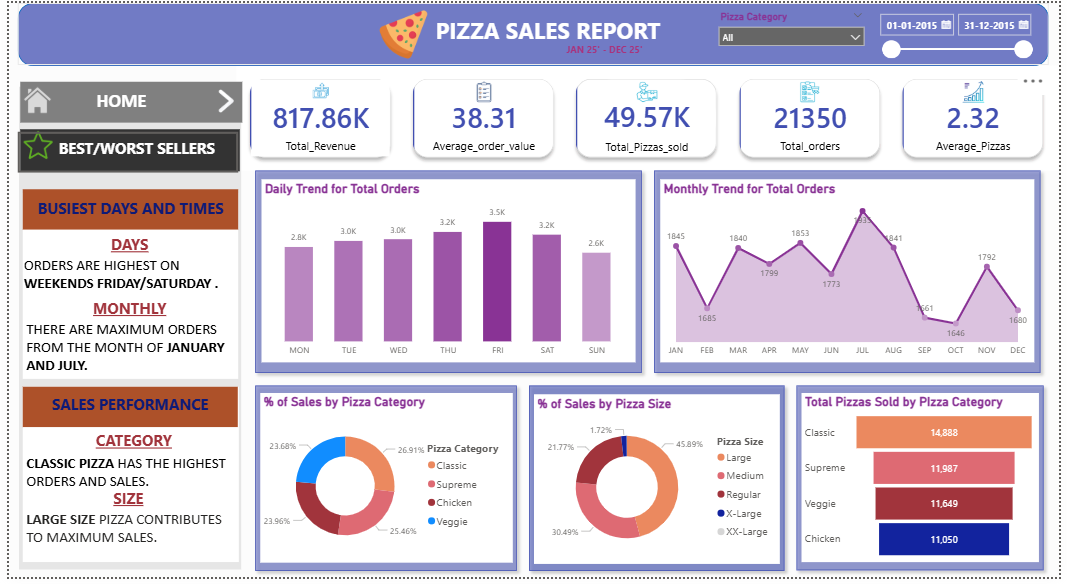

The dashboard page shown, as its layout file describes it:
{"tool":"powerbi","page":{"name":"page1","canvas":[1500,820],"ordinal":0},"visuals":[{"type":"cardVisual","fields":{"Data":["pizza_sales$.Total_Revenue","pizza_sales$.Average_order_value","pizza_sales$.Total_Pizzas_sold","pizza_sales$.Total_orders","pizza_sales$.Average_Pizzas_Per_order"]},"box":[324.3,90,1175.7,150],"z":0},{"type":"shape","box":[12.7,0,1473.2,90.1],"z":1000},{"type":"textbox","box":[14.5,0,1472.5,82.6],"z":2000},{"type":"image","box":[515,8.3,98.3,71.7],"z":3000},{"type":"shape","box":[342.9,230,570,307.1],"z":4000},{"type":"shape","box":[912.9,230,570,307.1],"z":5000},{"type":"columnChart","title":"Daily Trend for Total Orders","fields":{"Y":["pizza_sales$.Total_orders"],"Category":["pizza_sales$.New_day"]},"box":[360,251.4,534.3,261.4],"z":6000},{"type":"areaChart","title":"Monthly Trend for Total Orders","fields":{"Category":["pizza_sales$.ShortMonthName"],"Y":["pizza_sales$.Total_orders"]},"box":[930,251.4,534,261.4],"z":7000},{"type":"shape","box":[342.9,537.1,391.4,282.9],"z":8000},{"type":"shape","box":[734.3,537.1,382.9,282.9],"z":9000},{"type":"shape","box":[1116.7,537.5,370.8,281.9],"z":10000},{"type":"donutChart","title":"% of Sales by Pizza Category","fields":{"Category":["pizza_sales$.pizza_category"],"Y":["Sum(pizza_sales$.total_price)"]},"box":[358.9,556.7,361.1,242.2],"z":11000},{"type":"donutChart","title":"% of Sales by Pizza Size","fields":{"Category":["pizza_sales$.pizza_size"],"Y":["Sum(pizza_sales$.total_price)"]},"box":[750,558.9,351.1,242],"z":12000},{"type":"funnel","title":"Total Pizzas Sold by PIzza Category","fields":{"Category":["pizza_sales$.pizza_category"],"Y":["Sum(pizza_sales$.quantity)"]},"box":[1131.9,556.9,339,241.7],"z":13000},{"type":"textbox","box":[791.7,51.7,121.7,28.3],"z":14000},{"type":"shape","box":[14.5,120.3,317.4,689.9],"z":15000},{"type":"slicer","fields":{"Values":["pizza_sales$.pizza_category"]},"box":[1003.3,5,228.3,71.7],"z":16000},{"type":"slicer","fields":{"Values":["pizza_sales$.order_date"]},"box":[1231.7,5,238.3,80],"z":17000},{"type":"image","box":[12.9,117.1,64.3,48.6],"z":18000},{"type":"shape","box":[15.5,112.1,317.2,58.6],"z":19000},{"type":"textbox","box":[95.7,117.1,128.6,55.7],"z":20000},{"type":"image","box":[10,117.1,60,41.4],"z":21000},{"type":"shape","box":[15.5,181,313.8,60.3],"z":22000},{"type":"textbox","box":[44.8,187.9,275.9,63.8],"z":23000},{"type":"image","box":[15.5,182.8,51.7,41.4],"z":24000},{"type":"shape","box":[20.3,547.8,308.7,250.7],"z":25000},{"type":"textbox","box":[65.2,605.8,224.6,43.5],"z":26000},{"type":"textbox","box":[20.3,639.1,314.5,69.6],"z":27000},{"type":"textbox","box":[59.4,687,223.2,43.5],"z":28000},{"type":"textbox","box":[20.3,720.3,314.5,65.2],"z":29000},{"type":"shape","box":[18.9,271.1,307.8,265.6],"z":30000},{"type":"shape","box":[20.3,547.8,307.2,58],"z":31000},{"type":"shape","box":[20,266.7,307.8,57.8],"z":32000},{"type":"textbox","box":[50.7,553.6,246.4,44.9],"z":33000},{"type":"textbox","box":[24.4,273.3,297.8,44.4],"z":34000},{"type":"textbox","box":[61.1,324.4,223.3,43.3],"z":35000},{"type":"textbox","box":[61.1,415.6,223.3,43.3],"z":36000},{"type":"textbox","box":[16.7,357.8,315.6,68.9],"z":37000},{"type":"textbox","box":[18.9,448.9,315.6,98.9],"z":38000},{"type":"textbox","box":[580,13.3,380,61.7],"z":39000},{"type":"actionButton","box":[13.3,183.3,315,58.3],"z":40000},{"type":"image","box":[276.7,120,66.7,41.7],"z":41000}]}

Visuals, with their boxes in screenshot pixels (x1, y1, x2, y2), scaled from the page's 1500x820 canvas onto the 1067x584 screenshot:
cardVisual - pizza_sales$.Total_Revenue x pizza_sales$.Average_order_value: 231:64:1066:171
shape: 9:0:1057:64
textbox: 10:0:1058:59
image: 366:6:436:57
shape: 244:164:649:383
shape: 649:164:1055:383
"Daily Trend for Total Orders" columnChart: 256:179:636:365
"Monthly Trend for Total Orders" areaChart: 662:179:1041:365
shape: 244:383:522:583
shape: 522:383:795:583
shape: 794:383:1058:583
"% of Sales by Pizza Category" donutChart: 255:396:512:569
"% of Sales by Pizza Size" donutChart: 534:398:783:570
"Total Pizzas Sold by PIzza Category" funnel: 805:397:1046:569
textbox: 563:37:650:57
shape: 10:86:236:577
slicer - pizza_sales$.pizza_category: 714:4:876:55
slicer - pizza_sales$.order_date: 876:4:1046:61
image: 9:83:55:118
shape: 11:80:237:122
textbox: 68:83:160:123
image: 7:83:50:113
shape: 11:129:234:172
textbox: 32:134:228:179
image: 11:130:48:160
shape: 14:390:234:569
textbox: 46:431:206:462
textbox: 14:455:238:505
textbox: 42:489:201:520
textbox: 14:513:238:559
shape: 13:193:232:382
shape: 14:390:233:431
shape: 14:190:233:231
textbox: 36:394:211:426
textbox: 17:195:229:226
textbox: 43:231:202:262
textbox: 43:296:202:327
textbox: 12:255:236:304
textbox: 13:320:238:390
textbox: 413:9:683:53
actionButton: 9:131:234:172
image: 197:85:244:115
